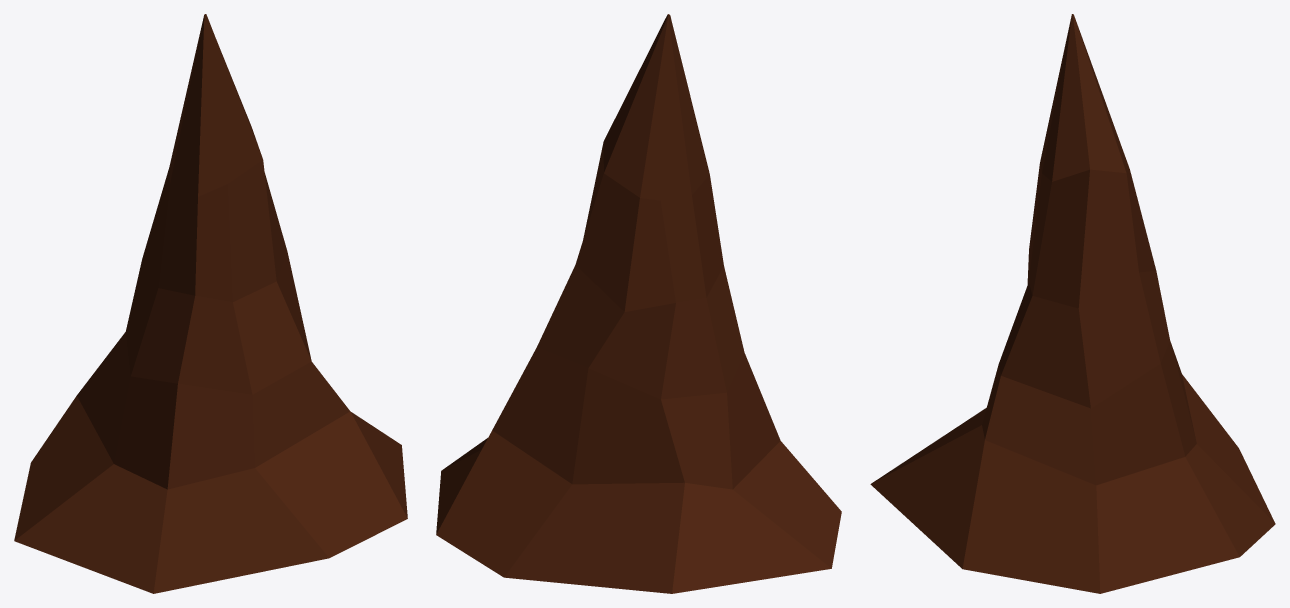
Rendered from Stalactite2.fbx.
The picture shows the model from 3 angles, left to right: view 1: azimuth 30°, elevation 25°; view 2: azimuth 150°, elevation 25°; view 3: azimuth 270°, elevation 25°; orthographic projection. The views are drawn at different scales.
Visible parts, largest first — view 1: Cube.001; view 2: Cube.001; view 3: Cube.001.
Boxes of the visible parts, <box> form: Cube.001: <box>14,14,407,593</box>; Cube.001: <box>436,14,841,593</box>; Cube.001: <box>870,14,1275,593</box>.
Size of the model in its own units: 210 by 268 by 196.
